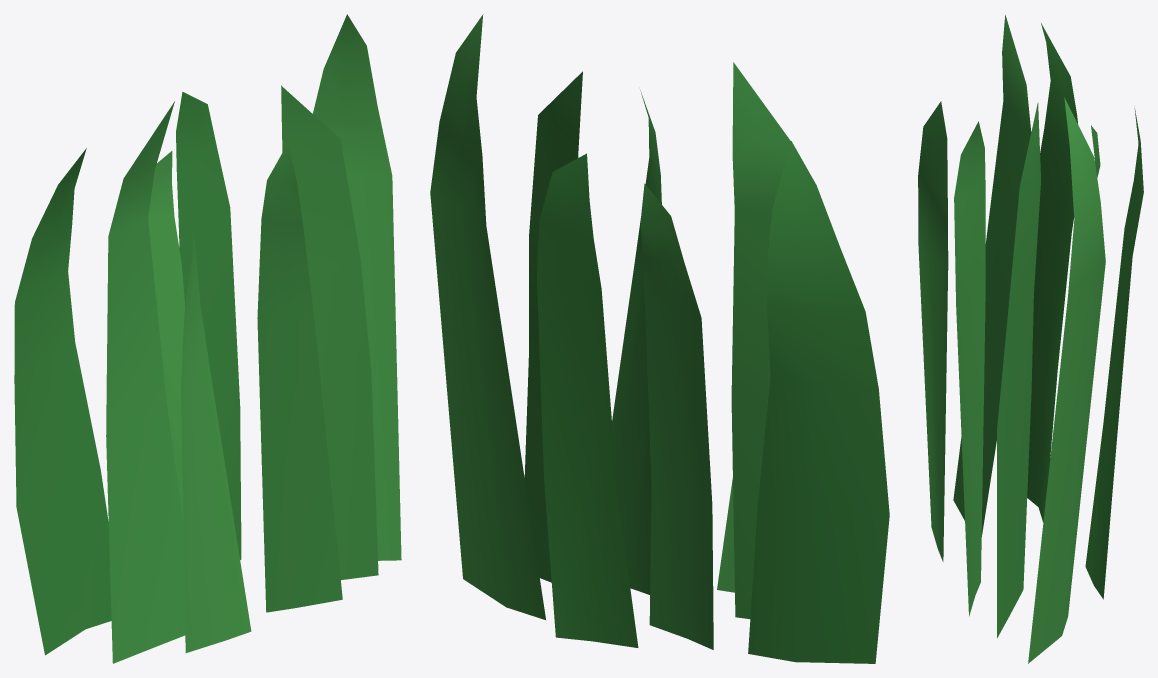
Rendered from Grass.fbx.
3 renders of one model, left to right at view 1: azimuth 30°, elevation 25°; view 2: azimuth 150°, elevation 25°; view 3: azimuth 270°, elevation 25°, orthographic. The views are drawn at different scales.
Parts seen in each view (by area): view 1: Grass; view 2: Grass; view 3: Grass.
Boxes of the visible parts, x1,y1,x2,y2 form: Grass: [14, 14, 401, 663]; Grass: [430, 14, 889, 663]; Grass: [918, 15, 1143, 663].
Bounding box in the file's own units: 31.73 × 41.15 × 15.34.
